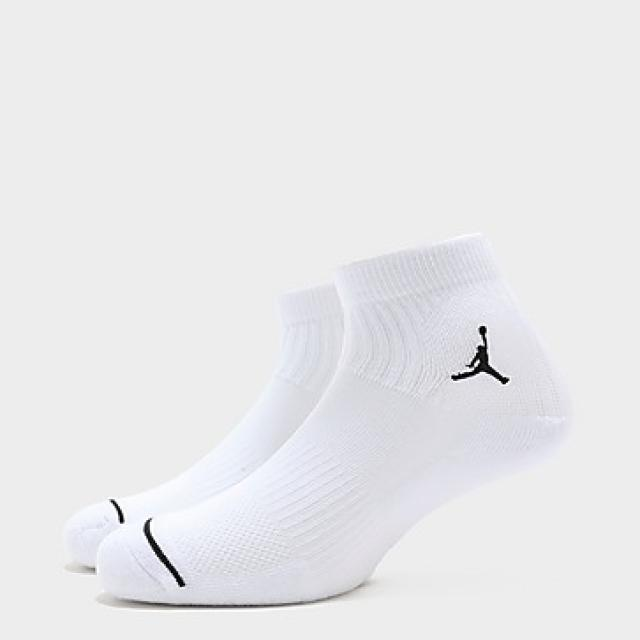sock: (93, 231, 573, 606), (62, 279, 344, 571)
